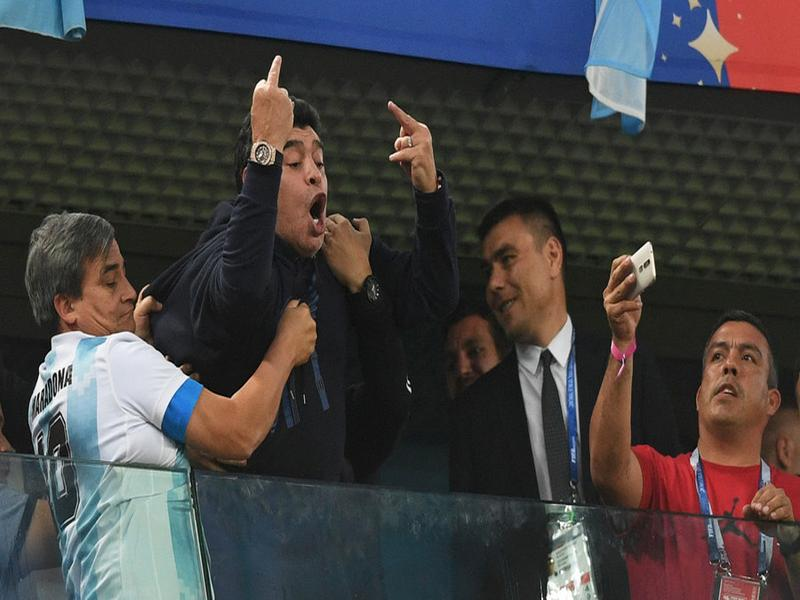flipping_the_bird: (233, 47, 305, 155)
